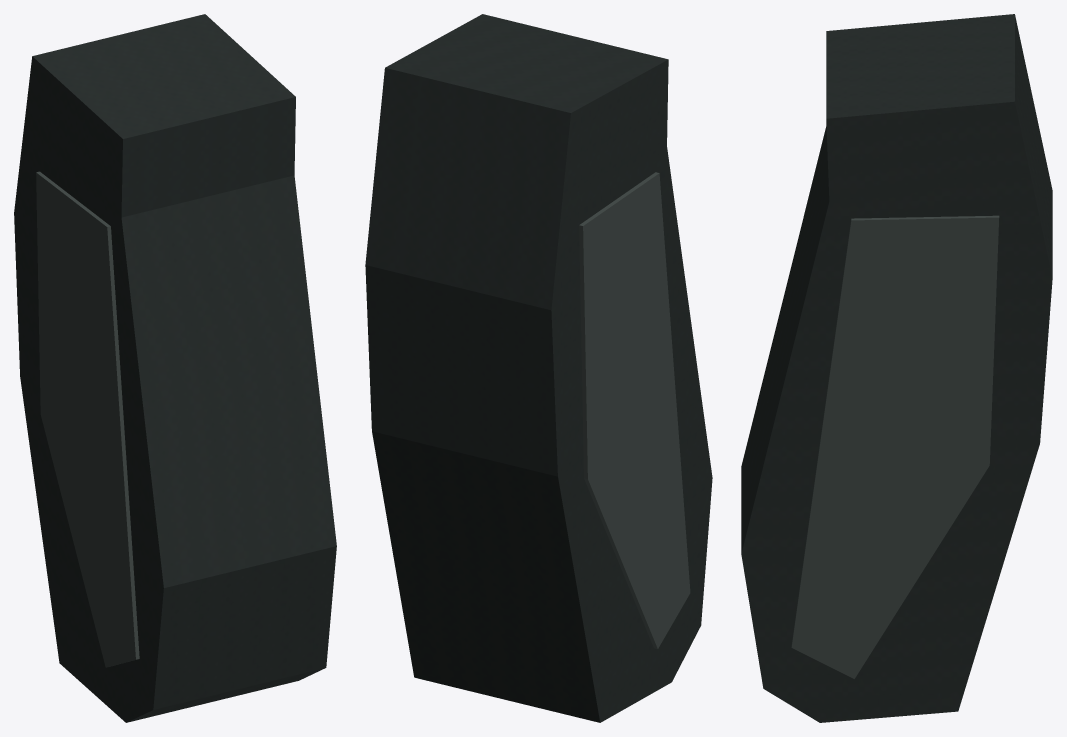
Rendered from scorpion_grip.glb.
3 views of the same model, side by side, from view 1: azimuth 30°, elevation 25°; view 2: azimuth 150°, elevation 25°; view 3: azimuth 270°, elevation 25° (orthographic). The views are drawn at different scales.
Parts seen in each view (by area): view 1: scorpion_grip_item_profile, scorpion_grip_item_profile.001, scorpion_grip_molded_panel; view 2: scorpion_grip_item_profile, scorpion_grip_item_profile.001, scorpion_grip_molded_panel; view 3: scorpion_grip_item_profile, scorpion_grip_molded_panel, scorpion_grip_item_profile.001.
Boxes of the visible parts, bbox=[...] form: scorpion_grip_item_profile: bbox=[16, 27, 330, 719]; scorpion_grip_item_profile.001: bbox=[14, 14, 336, 722]; scorpion_grip_molded_panel: bbox=[36, 171, 139, 667]; scorpion_grip_item_profile: bbox=[372, 18, 709, 714]; scorpion_grip_item_profile.001: bbox=[365, 14, 712, 722]; scorpion_grip_molded_panel: bbox=[579, 172, 690, 648]; scorpion_grip_item_profile: bbox=[741, 18, 1047, 714]; scorpion_grip_molded_panel: bbox=[791, 215, 999, 678]; scorpion_grip_item_profile.001: bbox=[741, 14, 1052, 722].
Bounding box in the file's own units: 0.0688 × 0.218 × 0.099.
2 materials, 1 textured.
